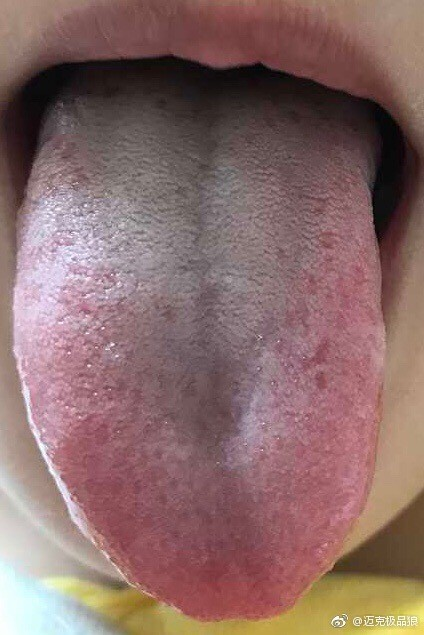baitaishe: (12, 69, 385, 624)
hongshe: (12, 69, 385, 624)
